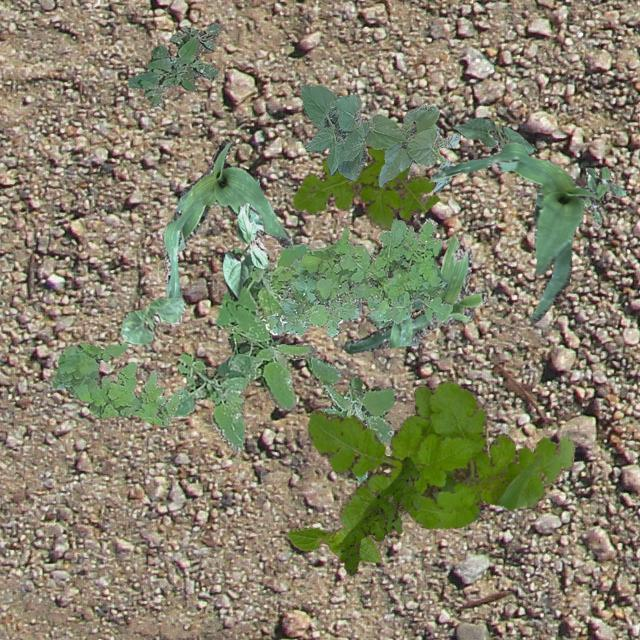crop: (428, 140, 596, 322), (160, 138, 292, 298), (298, 84, 458, 192), (342, 234, 486, 352), (220, 202, 268, 300), (284, 526, 380, 562), (120, 296, 184, 344), (452, 116, 536, 152), (364, 294, 422, 344)
weed: (306, 380, 574, 530), (172, 242, 316, 452), (264, 218, 452, 336), (290, 146, 438, 230), (306, 356, 394, 482), (52, 342, 178, 426), (338, 456, 419, 574), (126, 21, 220, 104), (582, 166, 624, 223)
